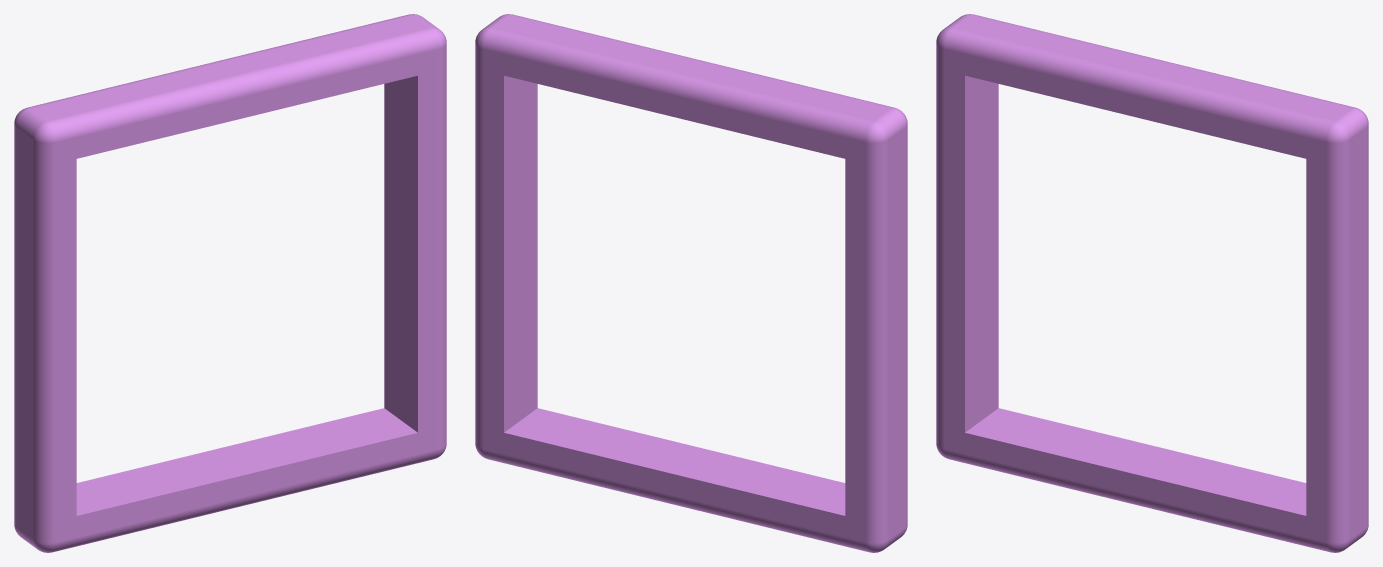
The picture shows the model from 3 angles, left to right: view 1: azimuth 30°, elevation 25°; view 2: azimuth 150°, elevation 25°; view 3: azimuth 330°, elevation 25°; orthographic projection.
Visible parts, largest first — view 1: Robot Bumpers; view 2: Robot Bumpers; view 3: Robot Bumpers.
Boxes of the visible parts, bbox=[...] form: Robot Bumpers: bbox=[14, 14, 446, 552]; Robot Bumpers: bbox=[475, 14, 907, 552]; Robot Bumpers: bbox=[936, 14, 1368, 552].
Size of the model in its own units: 0.8953 by 0.8953 by 0.127.
